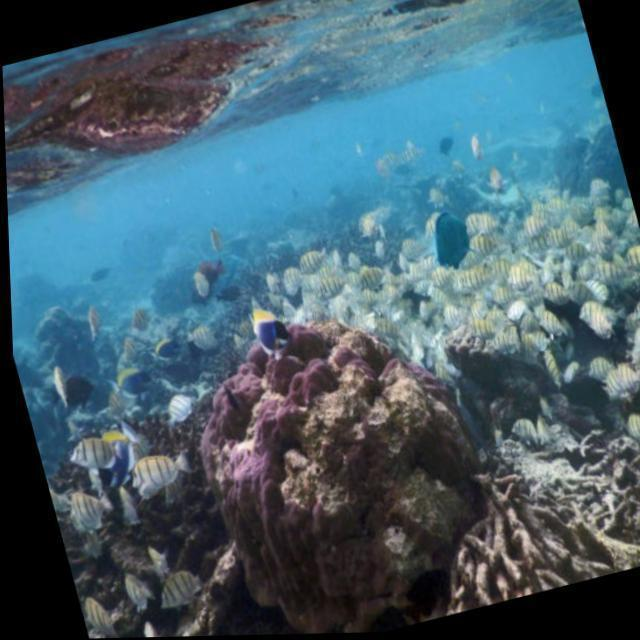Dead Coral: (408, 448, 557, 617), (537, 382, 640, 582)
